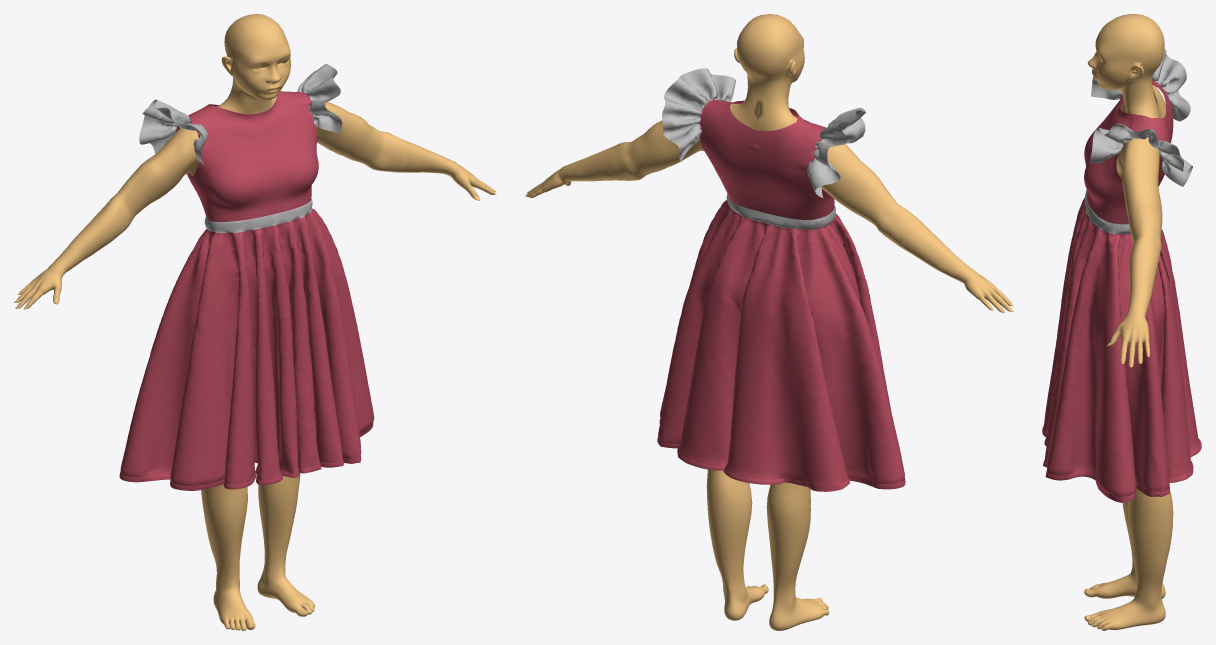
The model's file is dress4.glb.
3 renders of one model, left to right at view 1: azimuth 30°, elevation 25°; view 2: azimuth 150°, elevation 25°; view 3: azimuth 270°, elevation 25°, orthographic.
Visible parts, largest first — view 1: PinkDrees#14 (OBJ), Body; view 2: PinkDrees#14 (OBJ), Body; view 3: PinkDrees#14 (OBJ), Body.
Boxes of the visible parts, x1=… form: PinkDrees#14 (OBJ): x1=119, y1=63, x2=374, y2=490; Body: x1=16, y1=14, x2=496, y2=630; PinkDrees#14 (OBJ): x1=657, y1=68, x2=905, y2=491; Body: x1=526, y1=14, x2=1010, y2=630; PinkDrees#14 (OBJ): x1=1042, y1=49, x2=1201, y2=502; Body: x1=1084, y1=14, x2=1173, y2=630.
Bounding box in the file's own units: 1.58 × 1.85 × 0.451.
